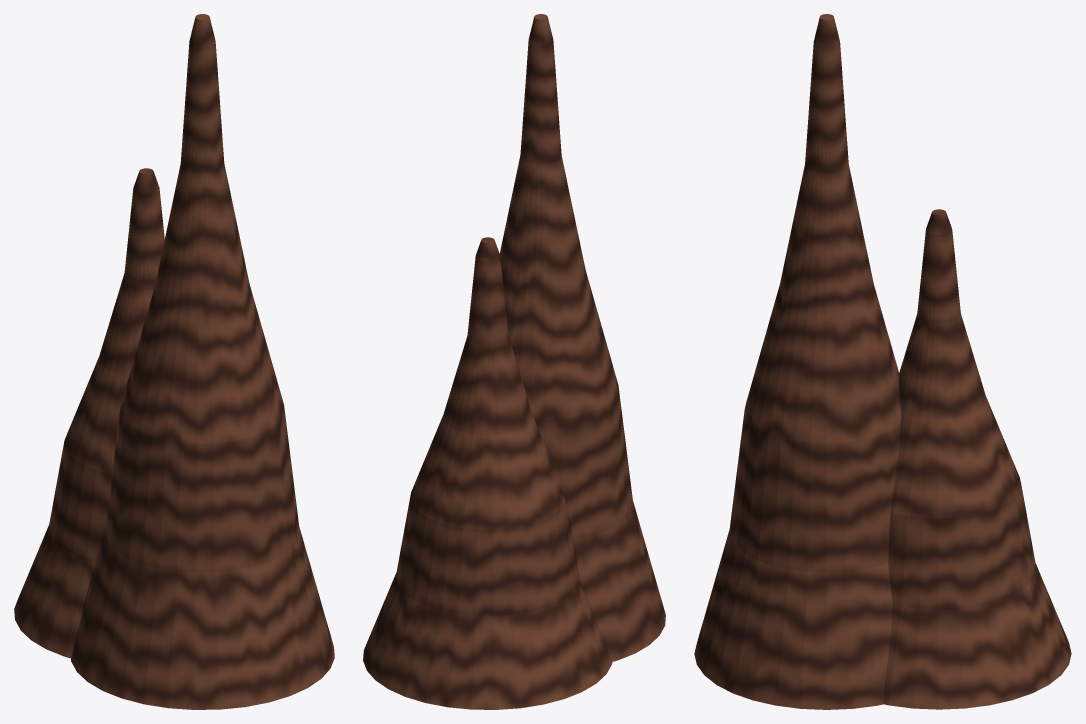
Rendered from stalagmight 1.obj.
The picture shows the model from 3 angles, left to right: view 1: azimuth 30°, elevation 25°; view 2: azimuth 150°, elevation 25°; view 3: azimuth 270°, elevation 25°; orthographic projection. The views are drawn at different scales.
Parts seen in each view (by area): view 1: Cylinder; view 2: Cylinder; view 3: Cylinder.
Boxes of the visible parts, x1,y1,x2,y2 form: Cylinder: (14, 14, 334, 709); Cylinder: (363, 14, 665, 709); Cylinder: (694, 14, 1071, 709).
Bounding box in the file's own units: 3.38 × 8.97 × 4.82.
1 material, 1 textured.
